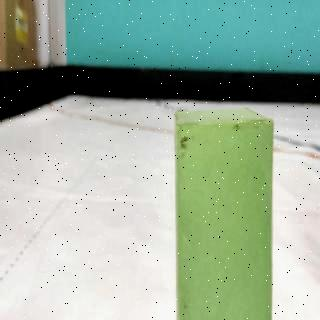greenbox: (174, 110, 274, 320)
